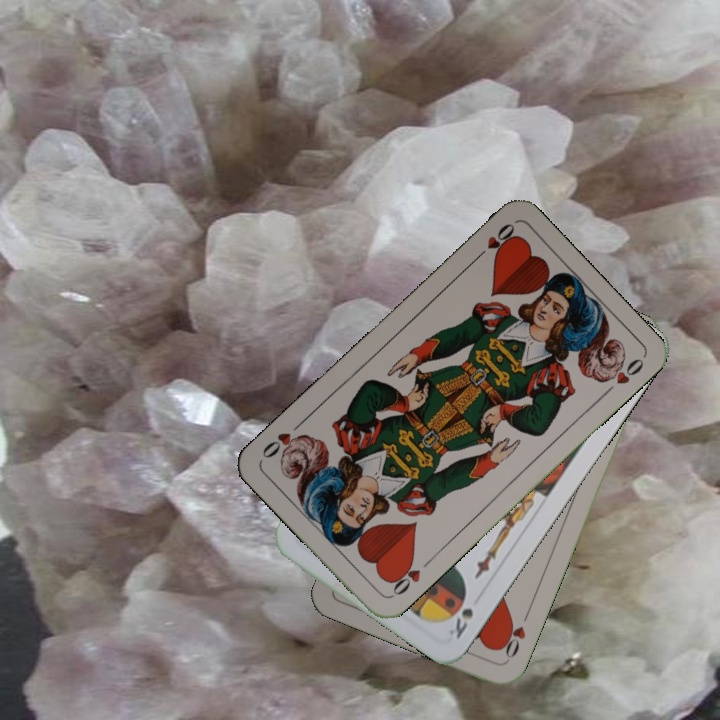HO: (385, 554, 435, 599), (470, 219, 518, 264), (496, 607, 532, 663)
SK: (444, 603, 476, 642)
